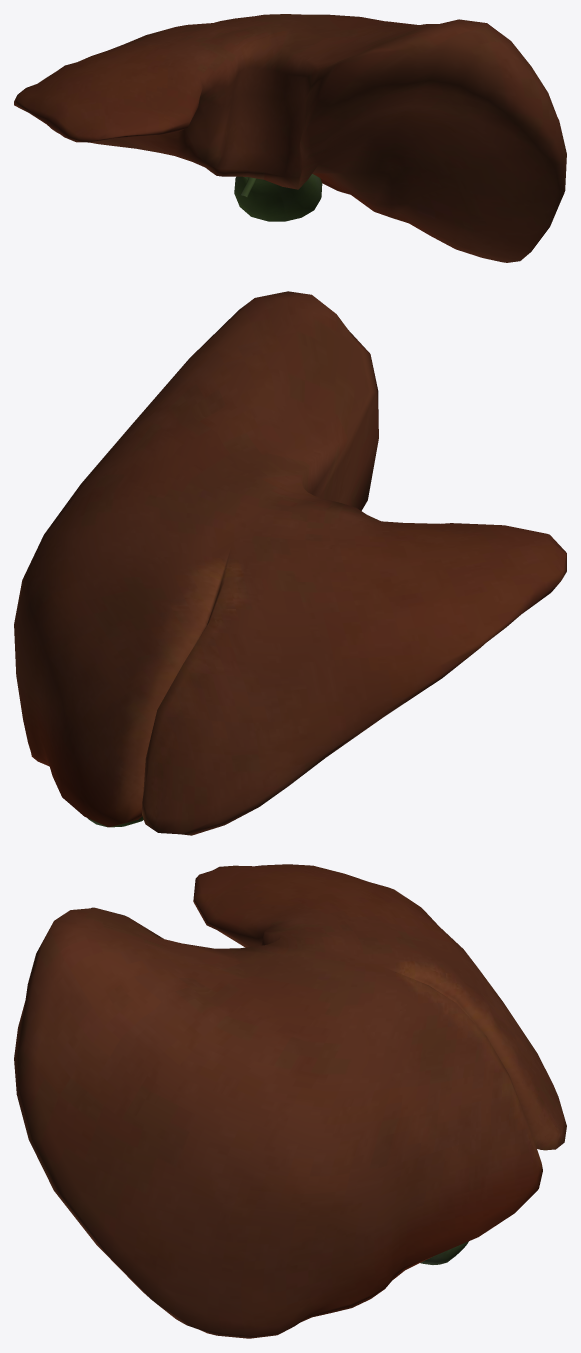
The model's file is hepatitis.glb.
The picture shows the model from 3 angles, top to bottom: view 1: azimuth 30°, elevation 25°; view 2: azimuth 150°, elevation 25°; view 3: azimuth 270°, elevation 25°; orthographic projection. The views are drawn at different scales.
Visible parts, largest first — view 1: node_Liver_-994_1, node_Group53789_10674_2; view 2: node_Liver_-994_1; view 3: node_Liver_-994_1.
Boxes of the visible parts, bbox=[...] form: node_Liver_-994_1: bbox=[14, 14, 566, 262]; node_Group53789_10674_2: bbox=[234, 174, 322, 221]; node_Liver_-994_1: bbox=[14, 291, 566, 835]; node_Liver_-994_1: bbox=[14, 864, 566, 1338].
Bounding box in the file's own units: 1.44 × 1.02 × 1.45.
2 materials, 2 textured.
